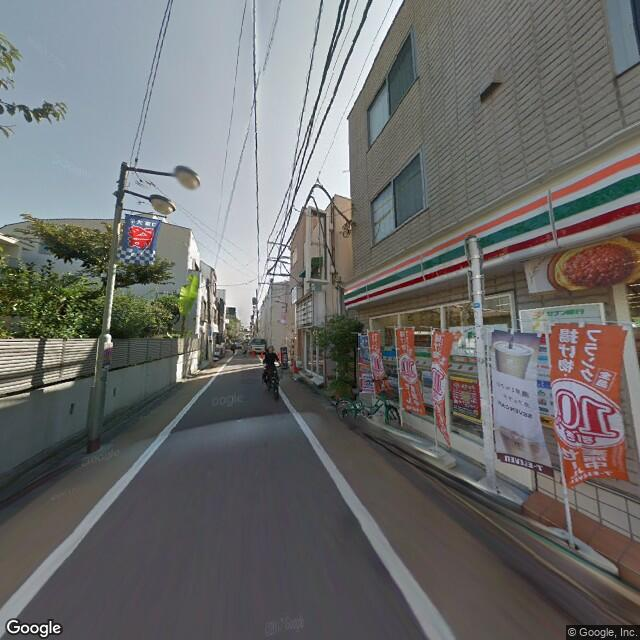7-eleven: (342, 145, 639, 314)
